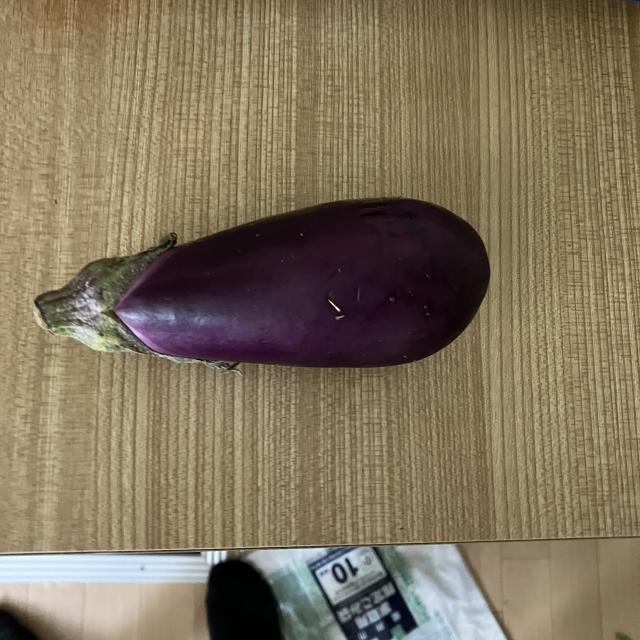eggplant: (31, 194, 494, 376)
